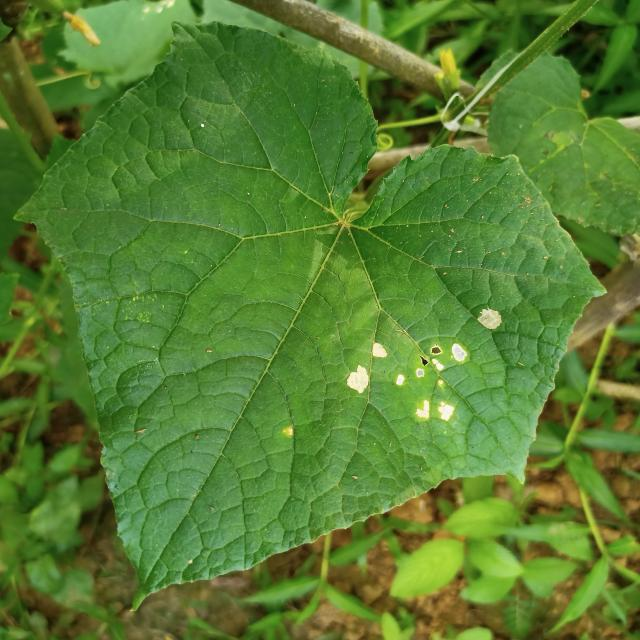disease_cucumber: (347, 305, 500, 423)
